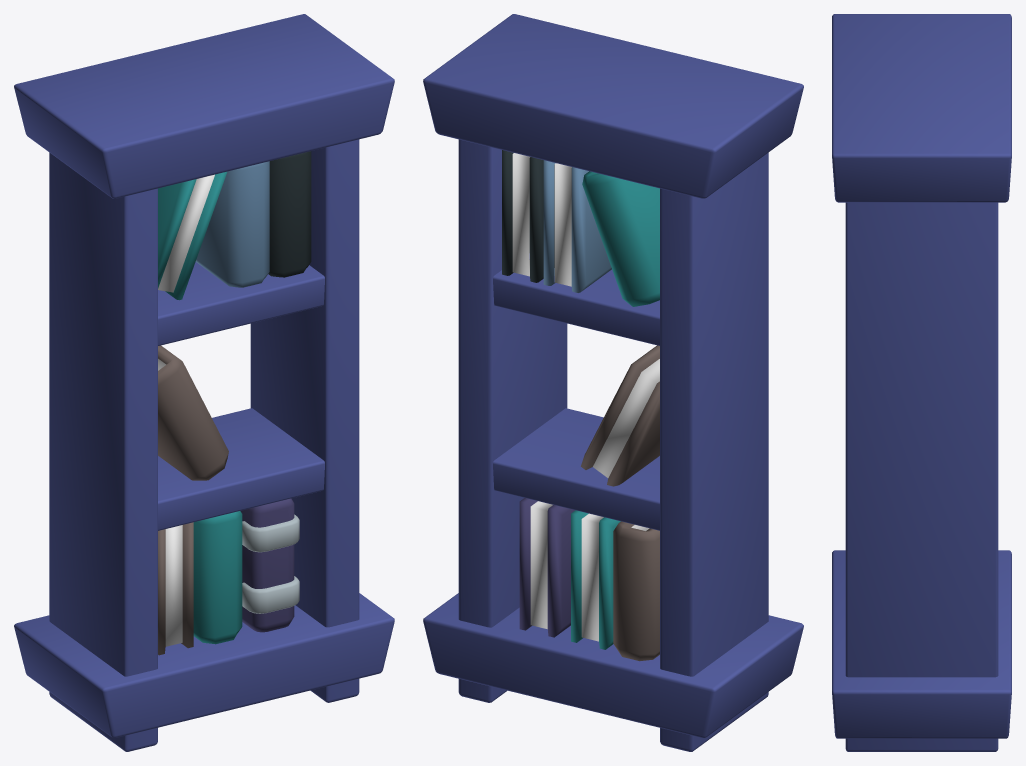
Rendered from bookShelf.glb.
3 views of the same model, side by side, from view 1: azimuth 30°, elevation 25°; view 2: azimuth 150°, elevation 25°; view 3: azimuth 270°, elevation 25° (orthographic).
Visible parts, largest first — view 1: bookcaseFilled; view 2: bookcaseFilled; view 3: bookcaseFilled.
Part boxes in pixels (box(x1,y1,x2,y2)): bookcaseFilled: box(14, 14, 394, 751); bookcaseFilled: box(423, 14, 803, 751); bookcaseFilled: box(832, 14, 1011, 751).
Bounding box in the file's own units: 0.9944 × 2 × 0.5329.
